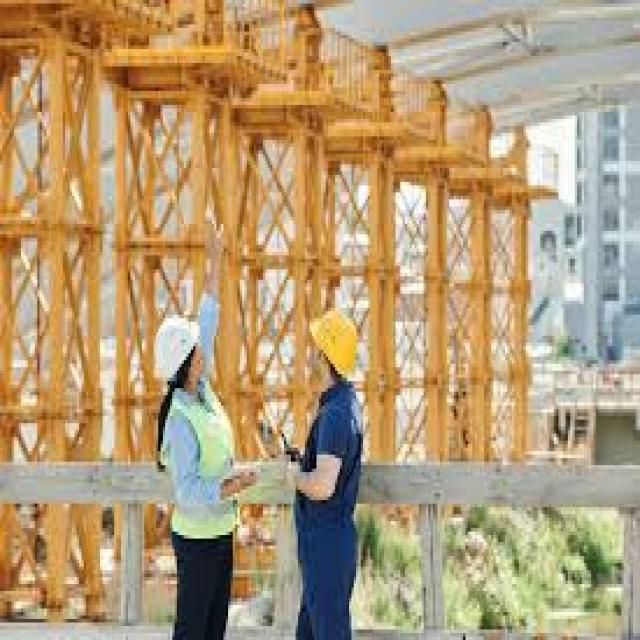Reflective-Jacket: (156, 384, 247, 546)
Safety-Helmet: (300, 301, 370, 395), (149, 308, 205, 388)
